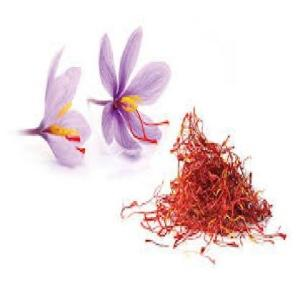Saffron: (96, 32, 170, 150), (27, 42, 91, 169)
